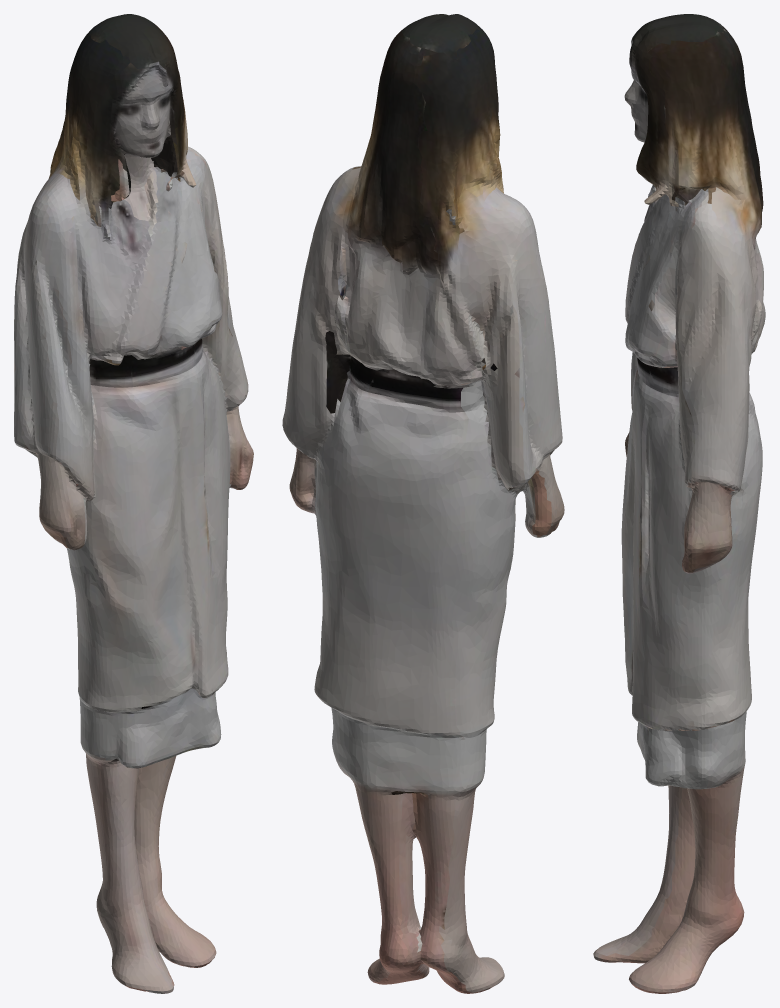
The model's file is garak_doll3.glb.
3 renders of one model, left to right at view 1: azimuth 30°, elevation 25°; view 2: azimuth 150°, elevation 25°; view 3: azimuth 270°, elevation 25°, orthographic. The views are drawn at different scales.
Visible parts, largest first — view 1: doll3.obj; view 2: doll3.obj; view 3: doll3.obj.
Part boxes in pixels (x1=…): doll3.obj: x1=14, y1=14, x2=253, y2=993; doll3.obj: x1=282, y1=14, x2=564, y2=993; doll3.obj: x1=593, y1=14, x2=765, y2=993.
Size of the model in its own units: 0.5065 by 1.97 by 0.3257.
1 material, 1 textured.
